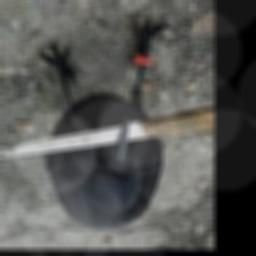Crow: (37, 18, 168, 230)
